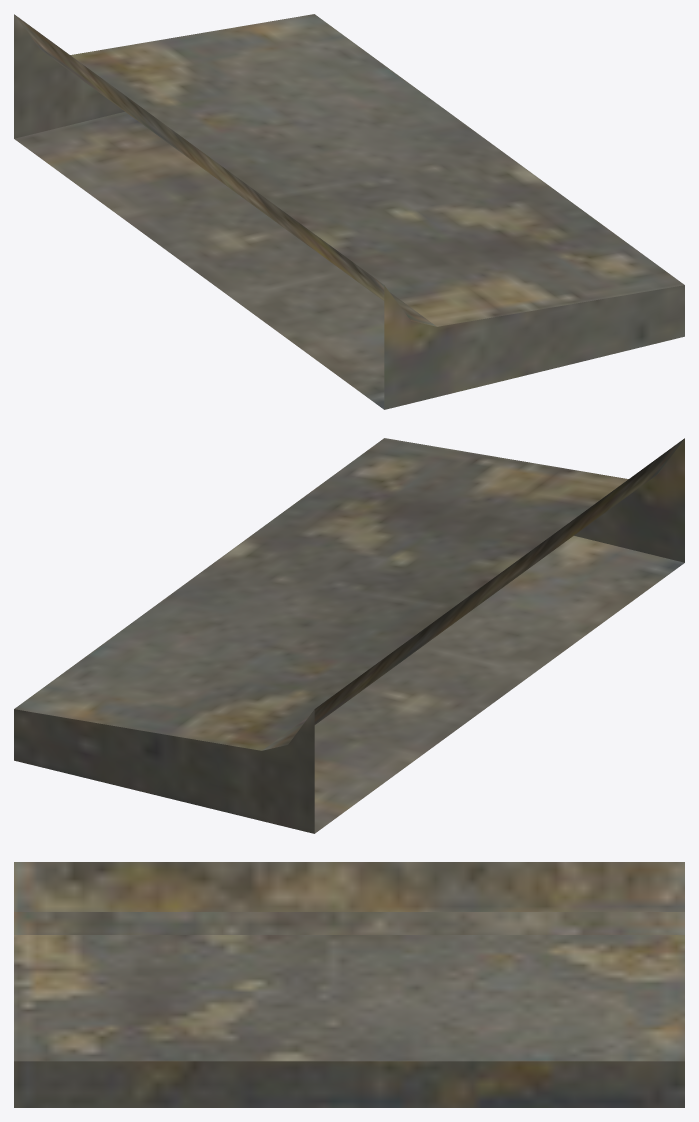
Rendered from WindowTop_S.FBX.
3 renders of one model, top to bottom at view 1: azimuth 30°, elevation 25°; view 2: azimuth 150°, elevation 25°; view 3: azimuth 270°, elevation 25°, orthographic. The views are drawn at different scales.
Parts seen in each view (by area): view 1: WindowTop_S; view 2: WindowTop_S; view 3: WindowTop_S.
Boxes of the visible parts, x1=… form: WindowTop_S: x1=14, y1=14, x2=684, y2=409; WindowTop_S: x1=14, y1=438, x2=684, y2=833; WindowTop_S: x1=14, y1=862, x2=684, y2=1107.
Bounding box in the file's own units: 80.93 × 32.1 × 173.
